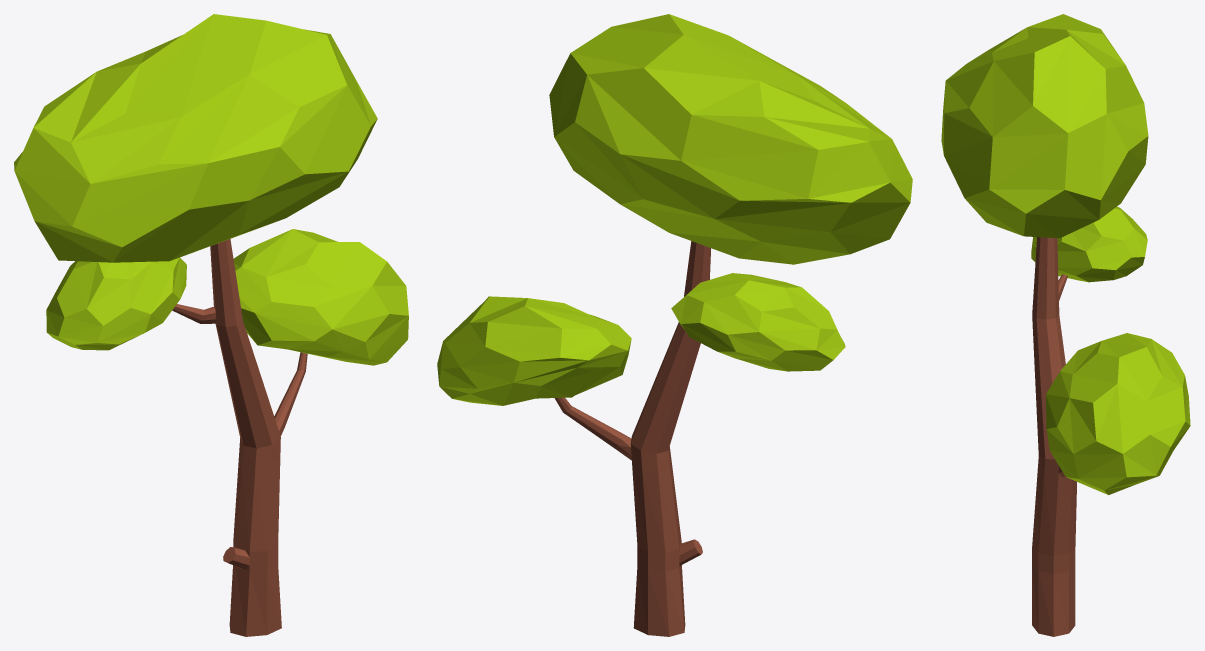
The model's file is tre.fbx.
The picture shows the model from 3 angles, left to right: view 1: azimuth 30°, elevation 25°; view 2: azimuth 150°, elevation 25°; view 3: azimuth 270°, elevation 25°; orthographic projection. The views are drawn at different scales.
Visible parts, largest first — view 1: Platonic, Platonic_1, Cylinder, Platonic_2; view 2: Platonic, Platonic_1, Cylinder, Platonic_2; view 3: Platonic, Platonic_1, Cylinder, Platonic_2.
Part boxes in pixels (left/top/right/bottom): Platonic: left=14, top=14, right=377, bottom=262; Platonic_1: left=233, top=229, right=408, bottom=365; Cylinder: left=172, top=239, right=307, bottom=636; Platonic_2: left=46, top=257, right=186, bottom=350; Platonic: left=549, top=14, right=912, bottom=264; Platonic_1: left=437, top=296, right=631, bottom=405; Cylinder: left=554, top=241, right=710, bottom=636; Platonic_2: left=671, top=273, right=845, bottom=371; Platonic: left=941, top=14, right=1148, bottom=238; Platonic_1: left=1046, top=333, right=1190, bottom=494; Cylinder: left=1032, top=237, right=1076, bottom=636; Platonic_2: left=1031, top=206, right=1147, bottom=282.
Size of the model in its own units: 1056 by 1461 by 575.
